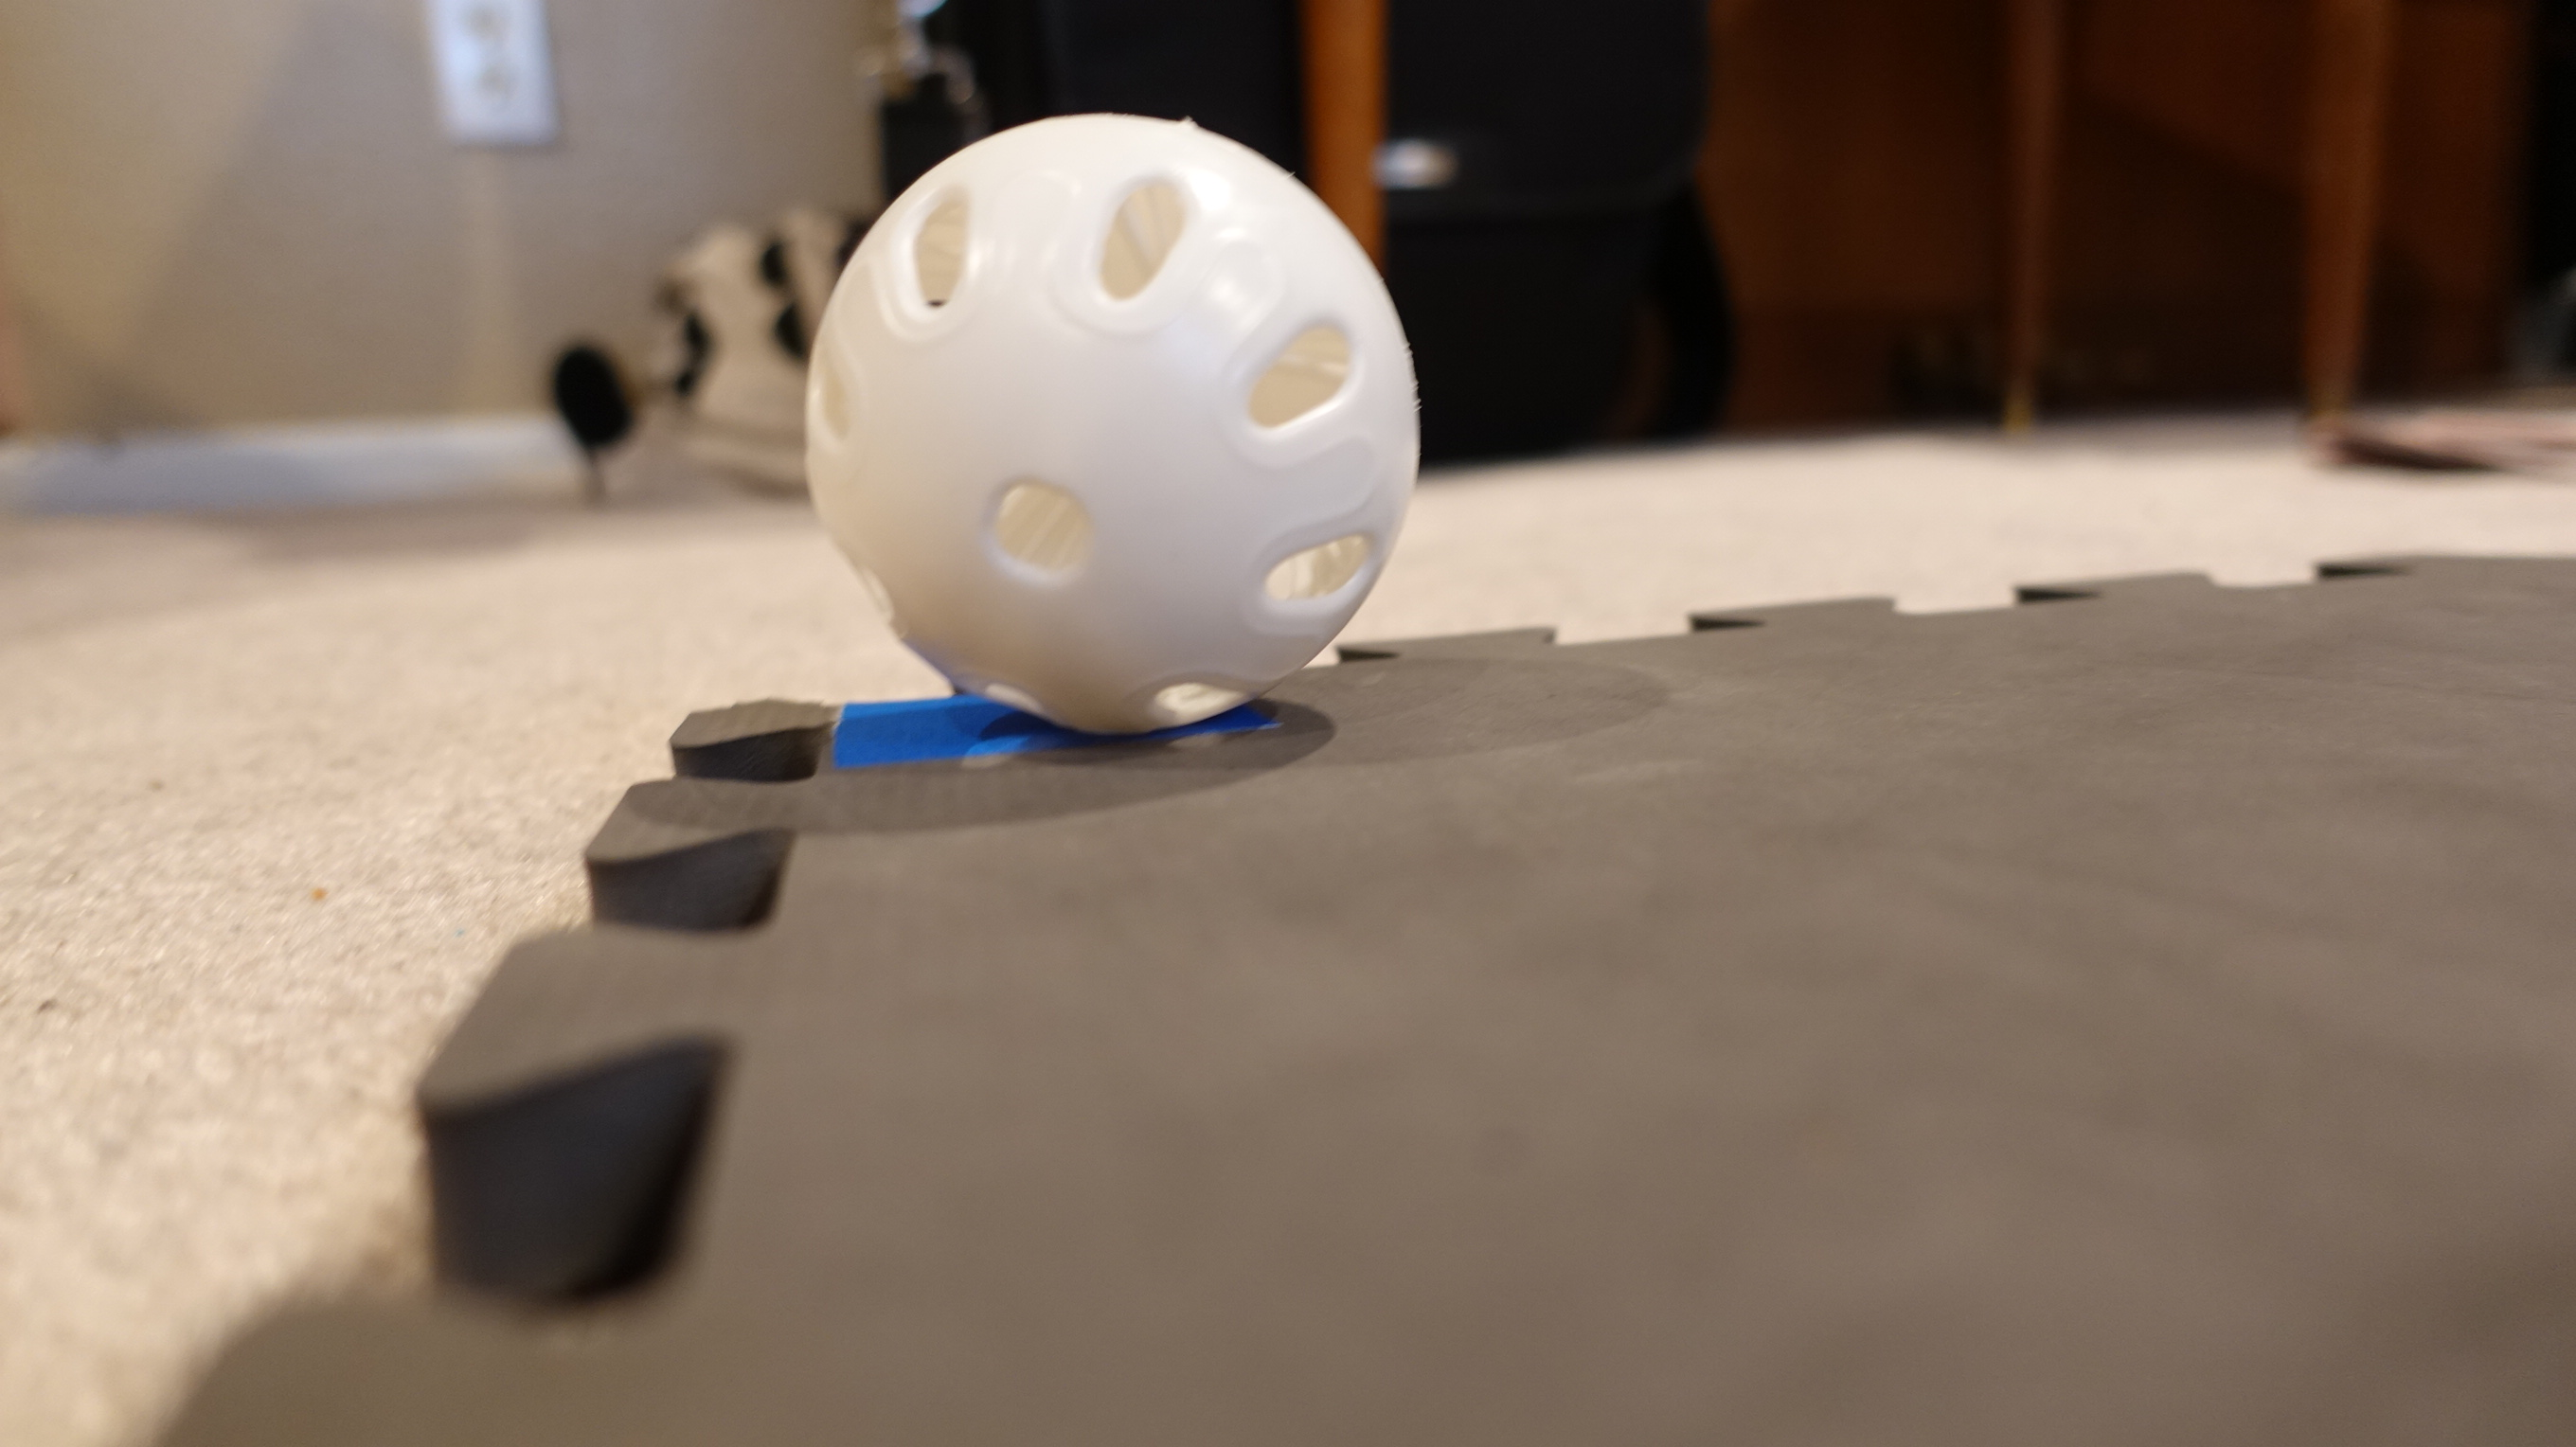silver: (801, 106, 1421, 743)
